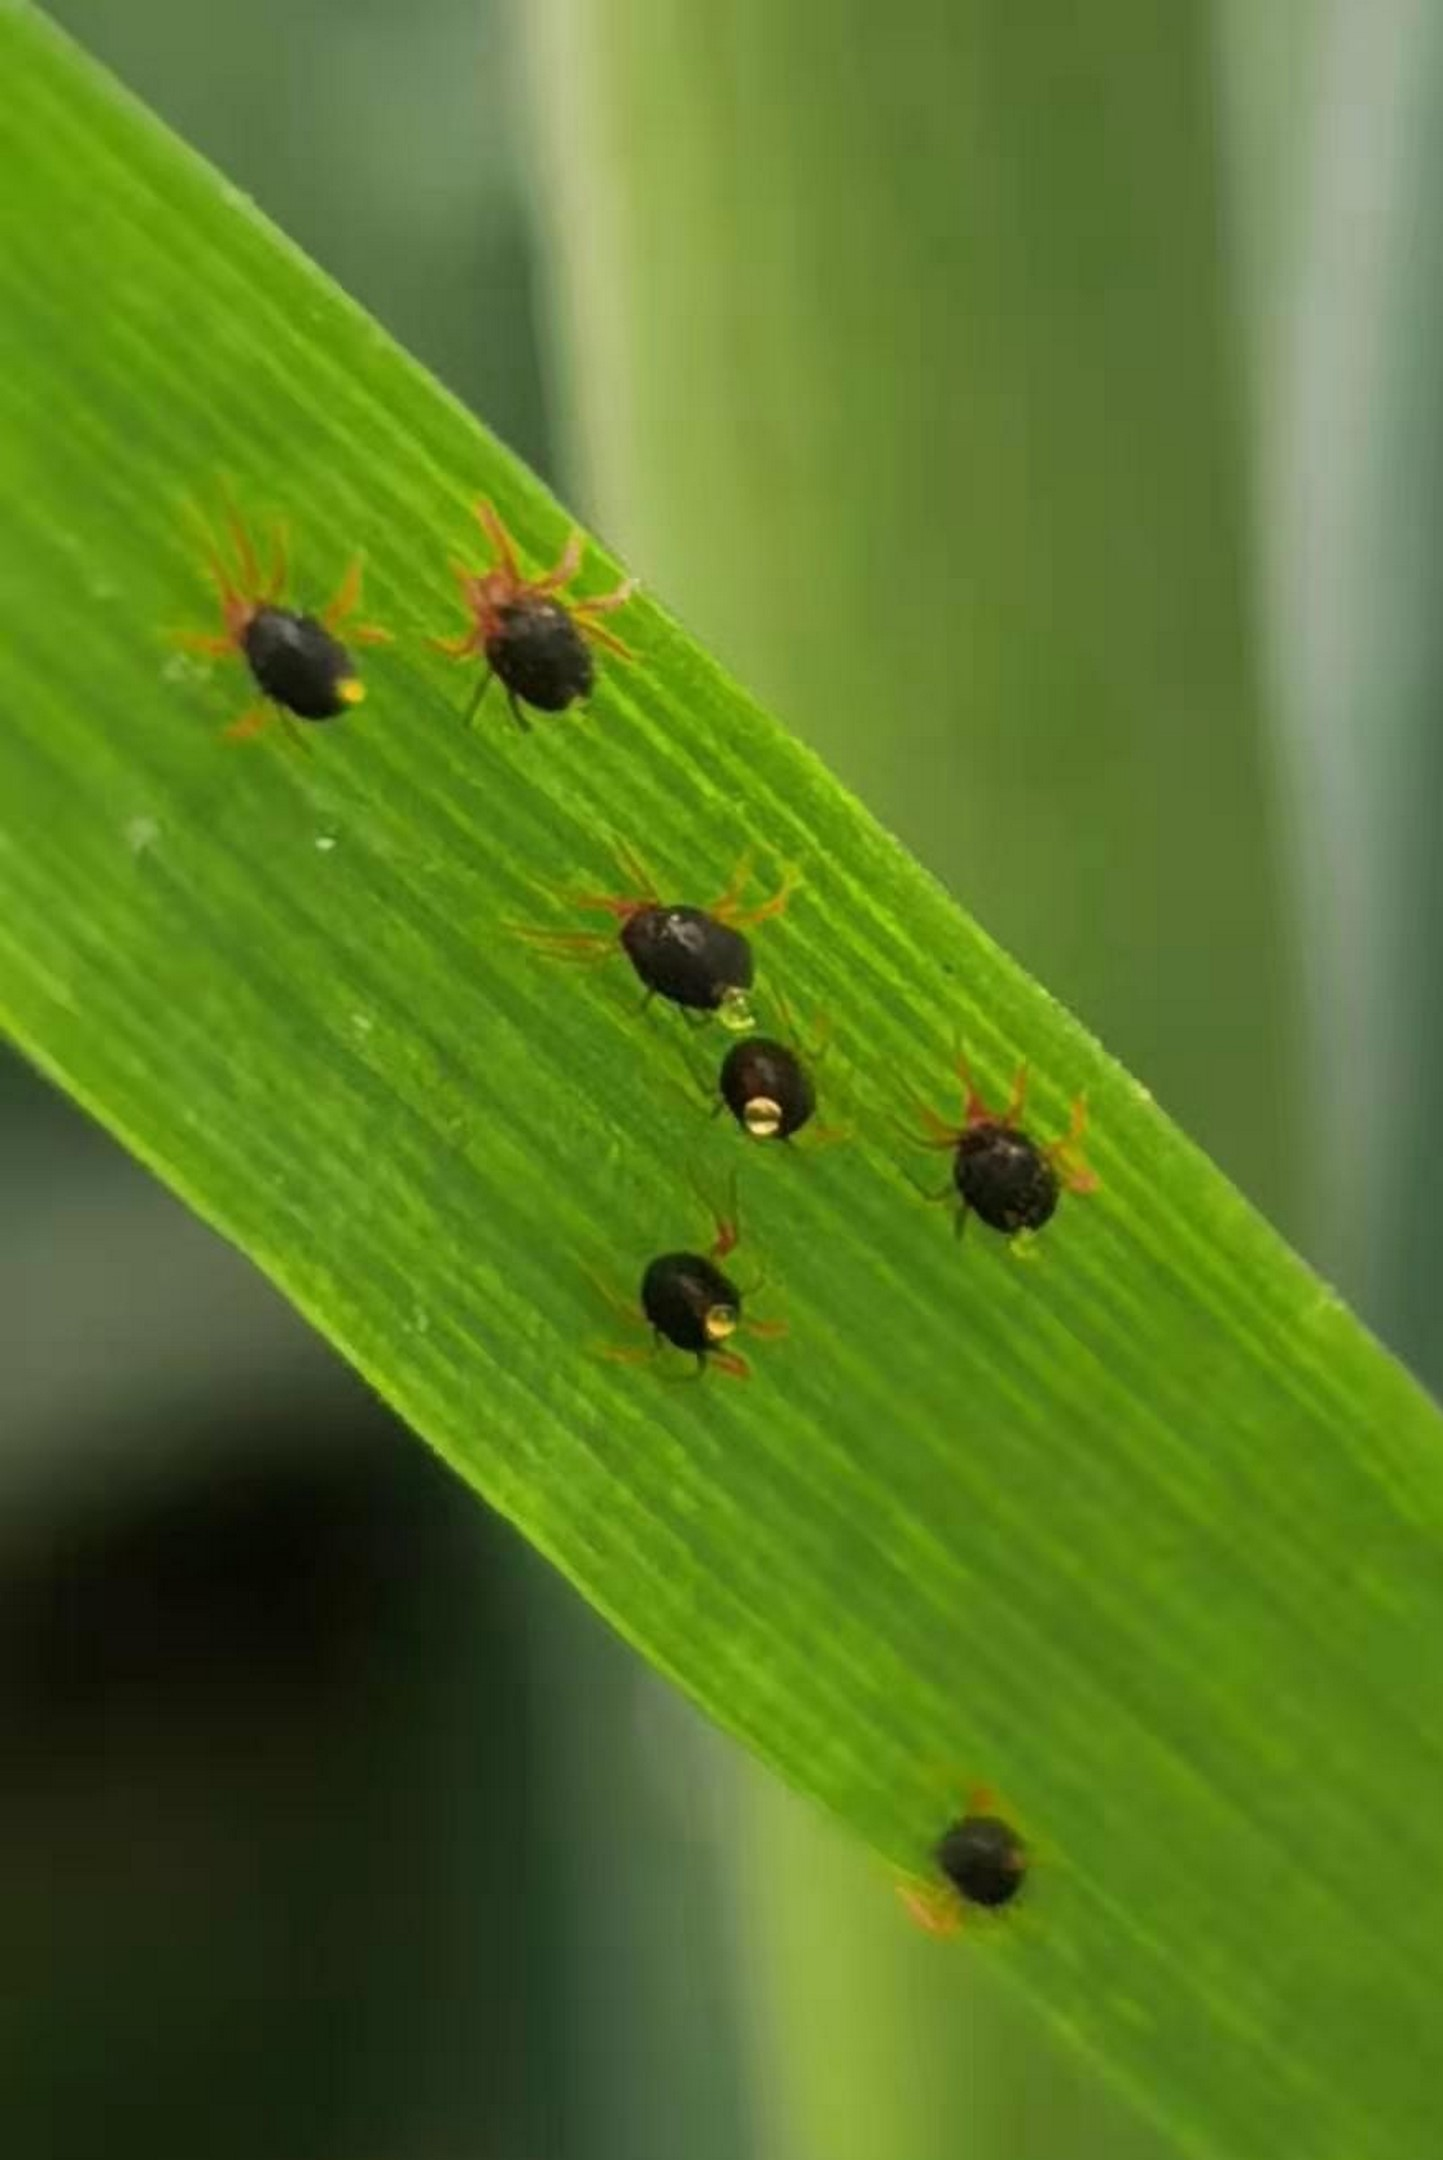Wheat Red Spider: (129, 475, 684, 801), (863, 995, 1129, 1301)
